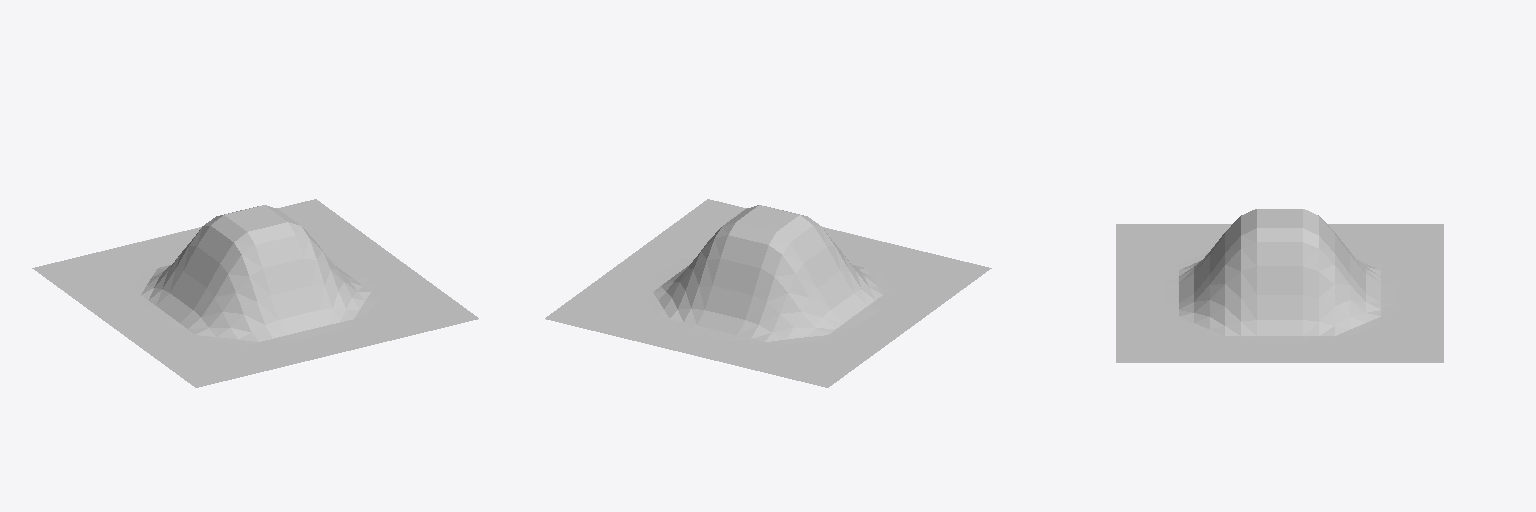
File: hill.obj
3 renders of one model, left to right at view 1: azimuth 30°, elevation 25°; view 2: azimuth 150°, elevation 25°; view 3: azimuth 270°, elevation 25°, orthographic.
Visible parts, largest first — view 1: Plane.001; view 2: Plane.001; view 3: Plane.001.
Part boxes in pixels (x1,y1,x2,y2): Plane.001: (32, 199, 478, 387); Plane.001: (545, 199, 991, 387); Plane.001: (1116, 209, 1443, 362).
Bounding box in the file's own units: 27.27 × 6.89 × 27.27.